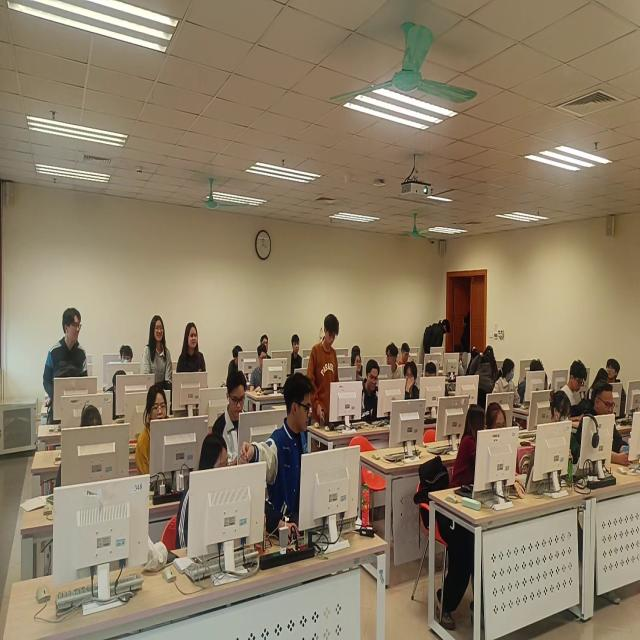raise_head: (403, 362, 422, 403), (291, 328, 303, 371), (119, 341, 136, 369), (352, 351, 363, 383), (261, 333, 273, 351)
stand: (44, 304, 90, 424), (309, 313, 342, 432), (177, 319, 210, 398), (143, 313, 174, 388), (469, 340, 502, 409), (422, 314, 455, 360), (461, 311, 472, 360)
using_computer: (177, 427, 236, 554), (55, 400, 107, 495), (487, 400, 534, 495), (213, 366, 253, 467), (136, 382, 174, 478), (547, 390, 582, 482), (561, 358, 593, 409), (362, 361, 385, 420), (107, 367, 131, 420), (520, 354, 545, 404), (251, 343, 272, 393), (588, 362, 609, 402), (227, 344, 245, 384), (400, 342, 416, 367), (424, 361, 441, 383)
using_phone: (577, 380, 633, 469)
